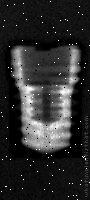Neodent: (7, 43, 82, 159)
